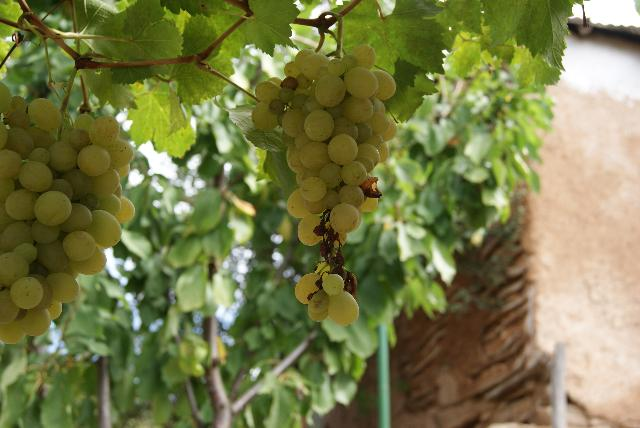grapes: (251, 44, 398, 326), (0, 81, 132, 344)
